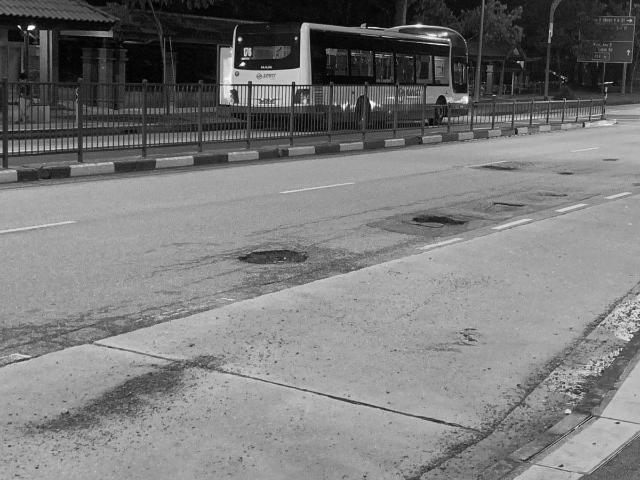Pothole: (238, 249, 308, 265), (412, 214, 466, 228), (482, 163, 516, 172), (488, 202, 526, 208), (536, 192, 572, 198)
